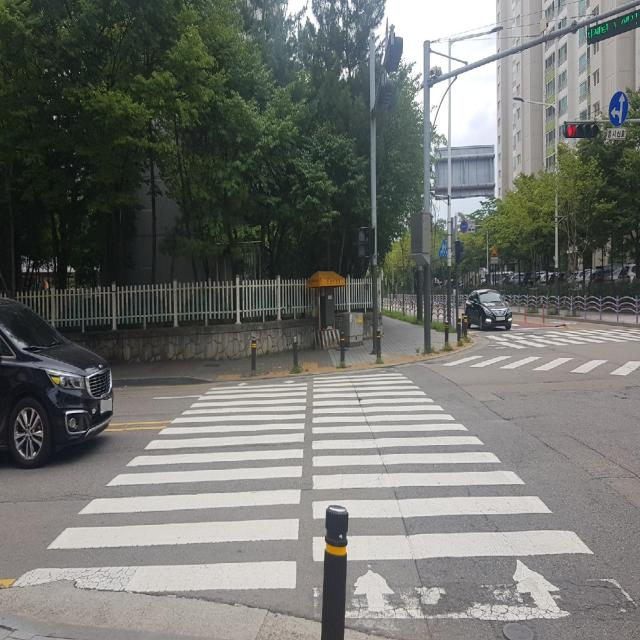횡단보도: (11, 370, 596, 615), (465, 333, 640, 382)
